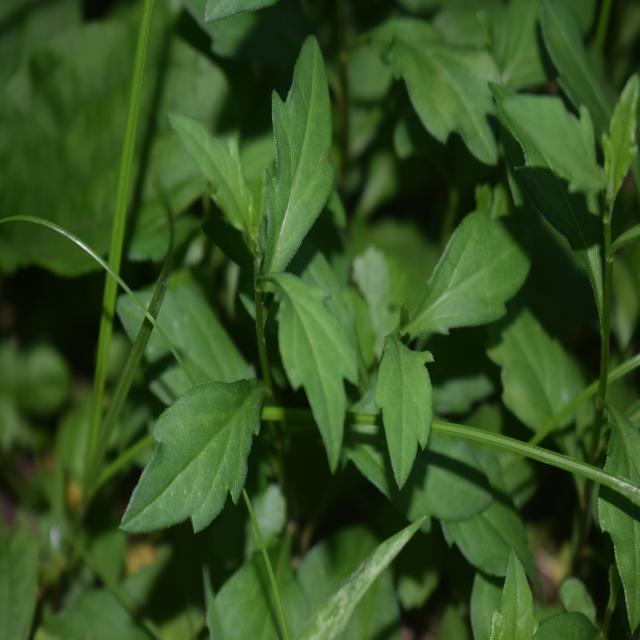Indian aster: (163, 57, 502, 516)
